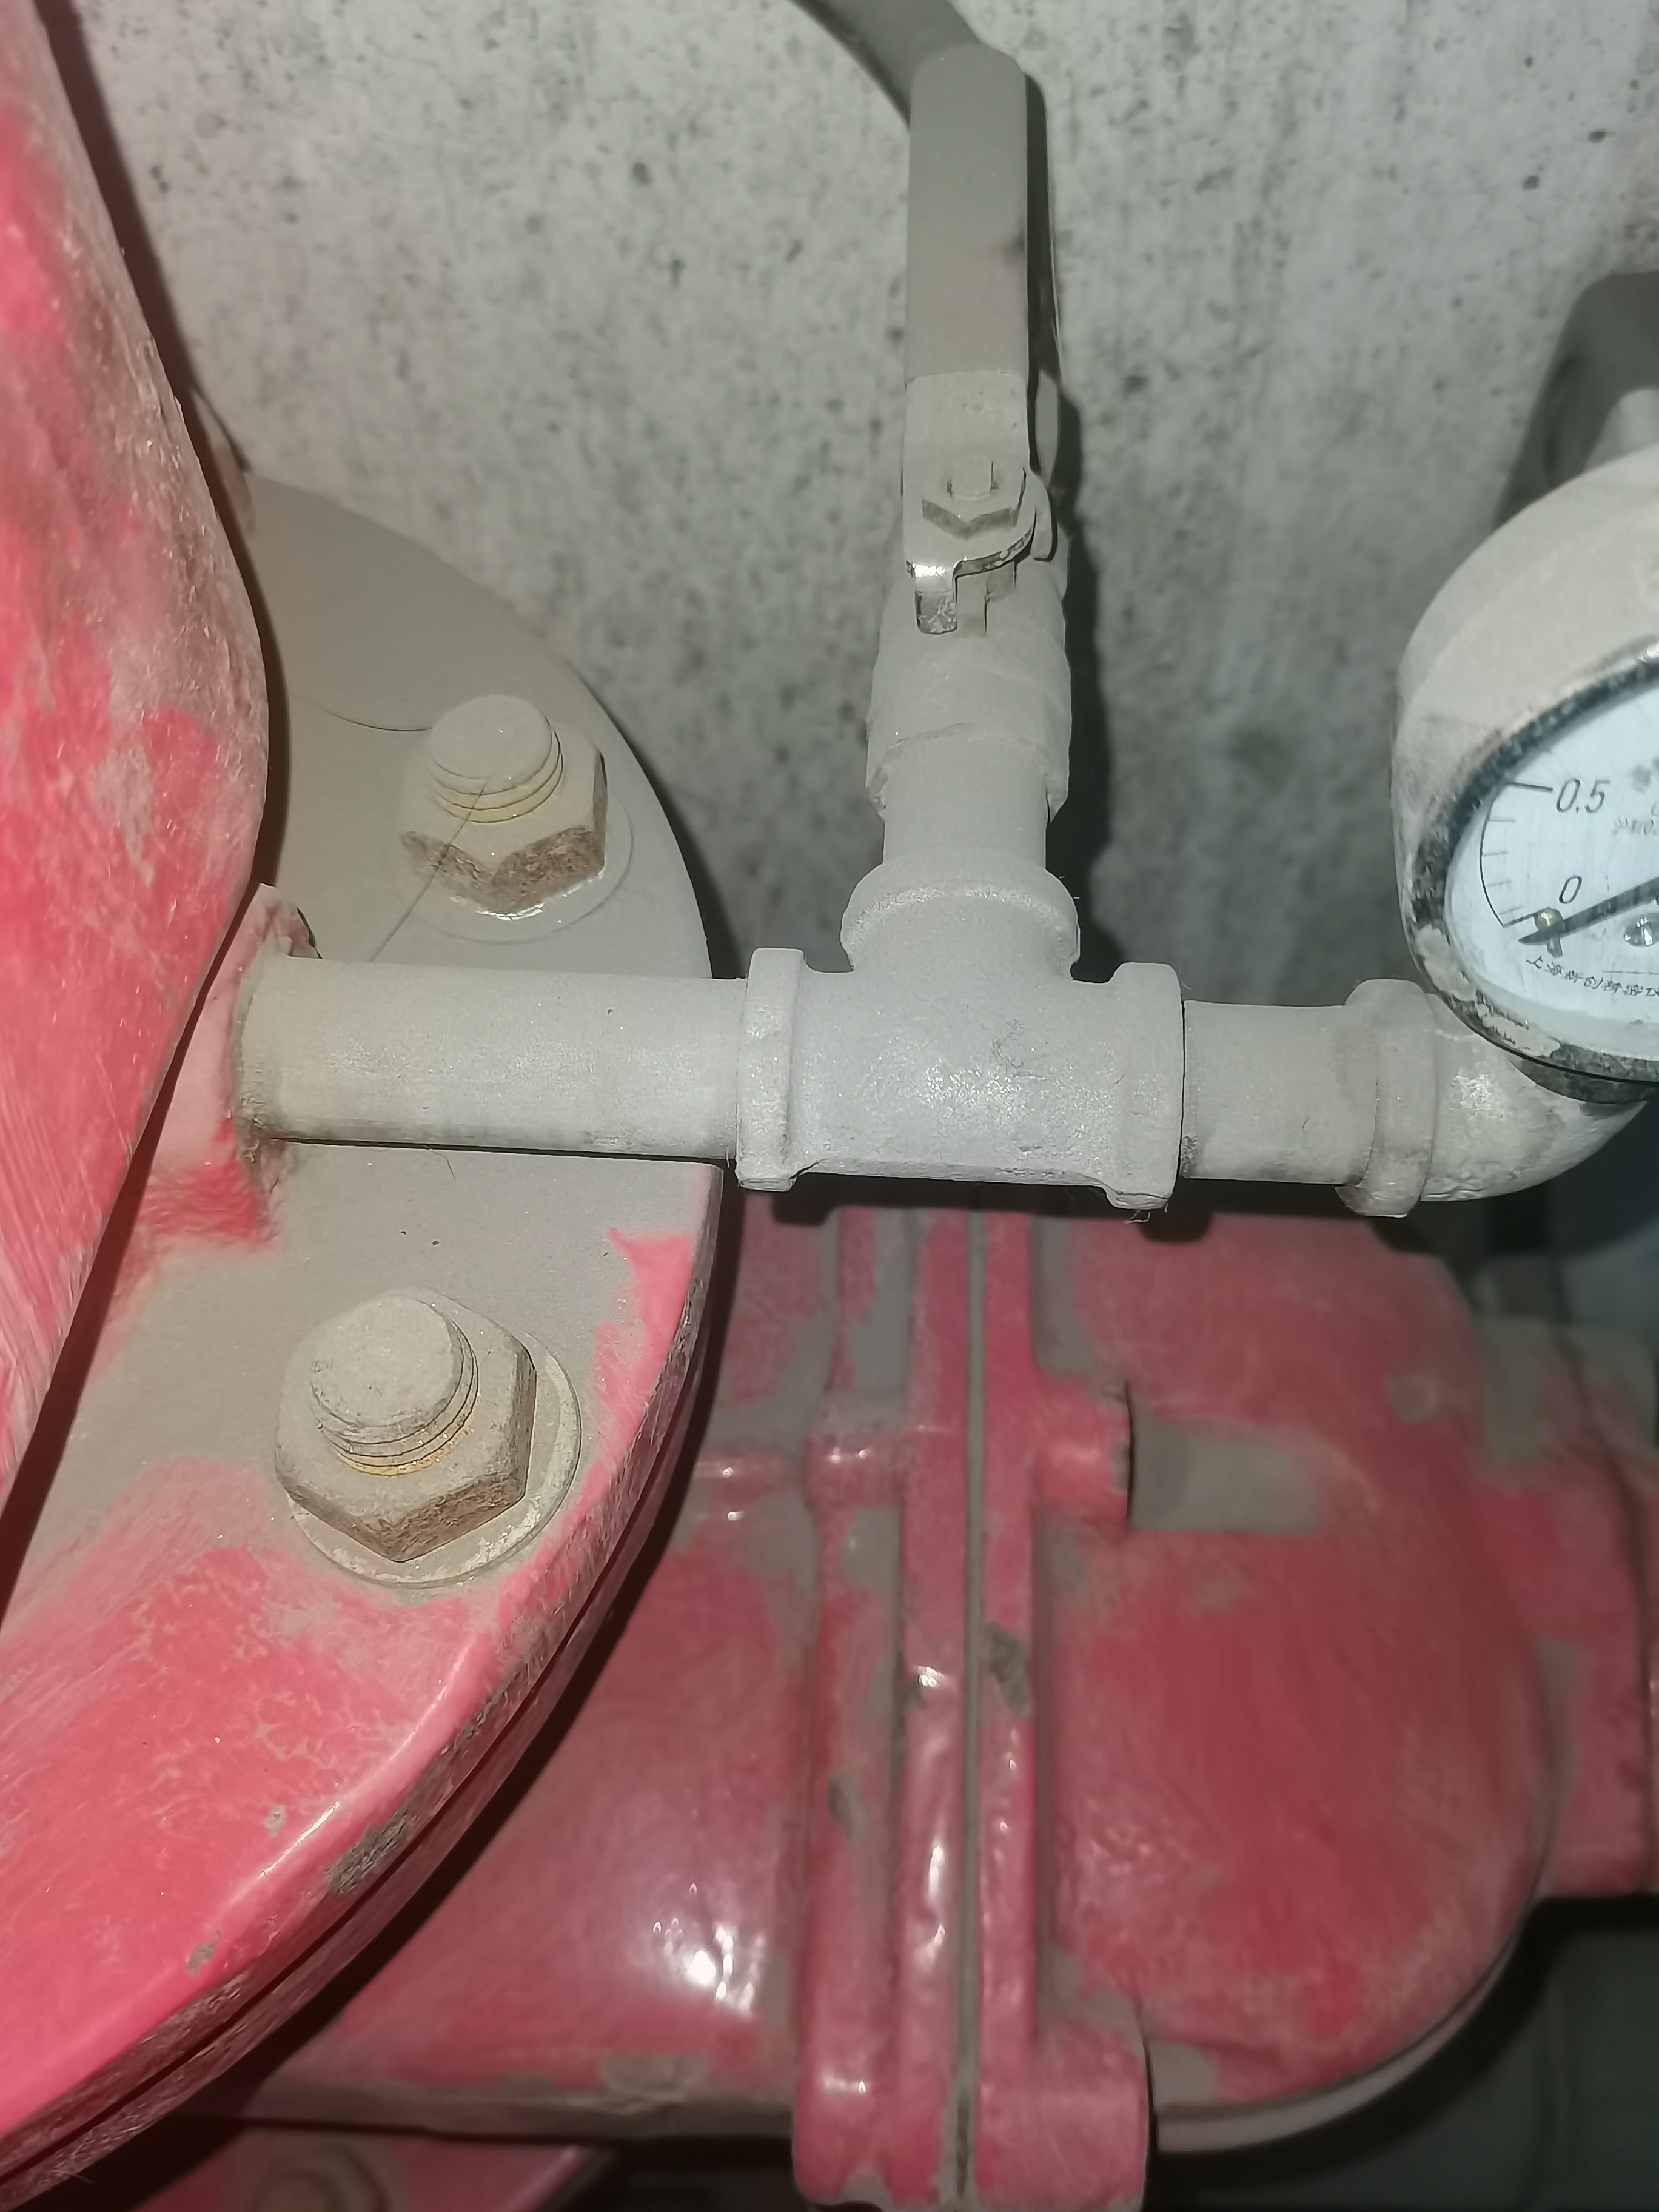bolt_b: (267, 1271, 544, 1569), (385, 691, 622, 920)
